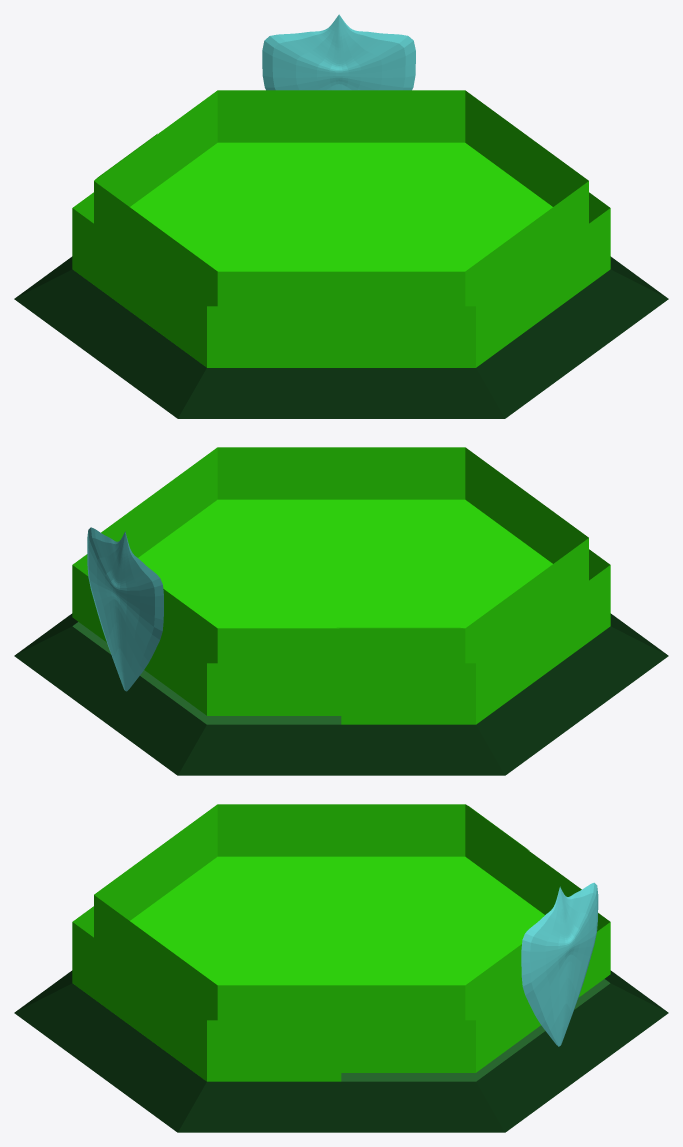
The model's file is defenseHexagon.glb.
3 renders of one model, top to bottom at view 1: azimuth 30°, elevation 25°; view 2: azimuth 150°, elevation 25°; view 3: azimuth 270°, elevation 25°, orthographic.
Visible parts, largest first — view 1: Cylinder, Circle, Cylinder.001; view 2: Cylinder, Circle, Cylinder.001; view 3: Cylinder, Circle, Cylinder.001.
Part boxes in pixels (x1,y1,x2,y2): Cylinder: (72,90,610,367); Circle: (14,256,668,418); Cylinder.001: (262,14,415,90); Cylinder: (72,447,610,724); Circle: (14,613,668,775); Cylinder.001: (87,527,163,691); Cylinder: (72,804,610,1081); Circle: (14,970,668,1132); Cylinder.001: (521,882,598,1046).
Size of the model in its own units: 1.73 by 0.6027 by 2.
